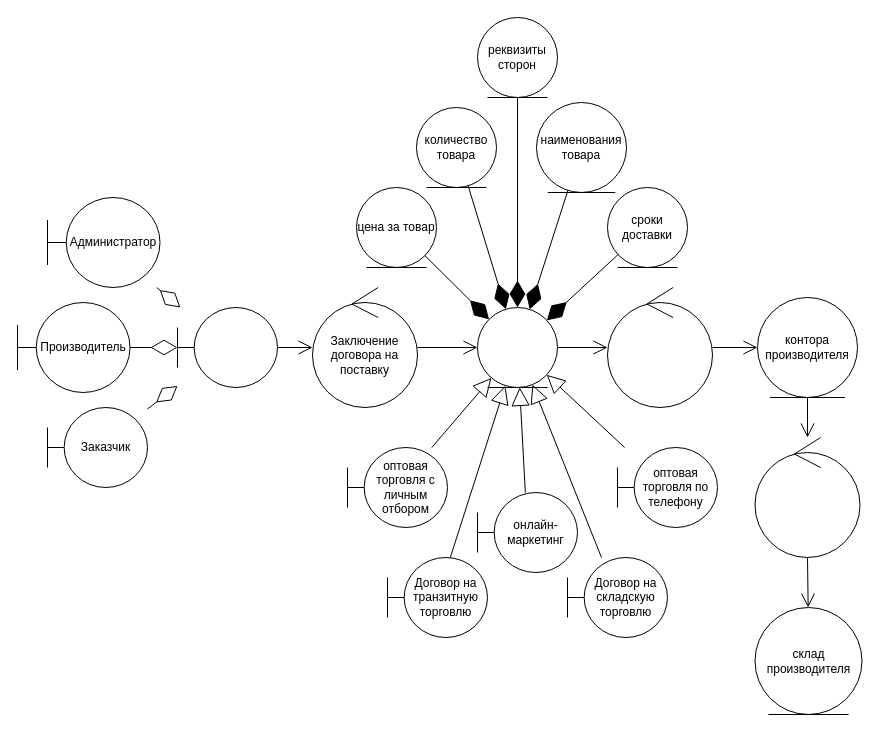
Image size: 880x732. Some labels were removed from this diagram. The centre of each missing label's shape, as x and y in pixels:
"Договор на поставку товара" goes at (x=517, y=347).
"Заказ" goes at (x=227, y=347).
"Запрос на отгрузку товара по договору" goes at (x=807, y=497).
"Подтверждение запроса на поставку товара" goes at (x=659, y=347).
